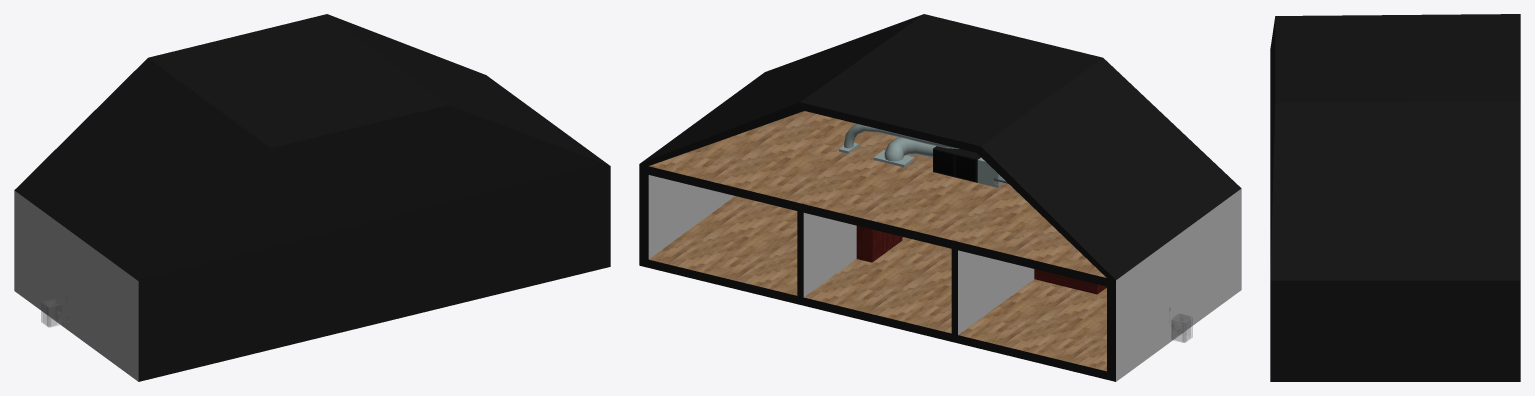
Rendered from House_final.glb.
The picture shows the model from 3 angles, left to right: view 1: azimuth 30°, elevation 25°; view 2: azimuth 150°, elevation 25°; view 3: azimuth 270°, elevation 25°; orthographic projection.
Parts seen in each view (by area): view 1: walls, acCondenser; view 2: walls, closet, flex_2, bed_2, flex_1, acCondenser, GasFurnace_Base, Box001; view 3: walls.
Boxes of the visible parts, x1,y1,x2,y2 form: walls: [14, 14, 610, 381]; acCondenser: [41, 298, 61, 327]; walls: [639, 14, 1241, 381]; closet: [856, 225, 902, 262]; flex_2: [884, 137, 935, 161]; bed_2: [1034, 269, 1106, 294]; flex_1: [844, 124, 959, 148]; acCondenser: [1171, 314, 1192, 342]; GasFurnace_Base: [933, 146, 980, 182]; Box001: [977, 157, 1005, 187]; walls: [1270, 14, 1520, 381].
Size of what is drawn, in the model's own units: 17.65 by 6.86 by 7.7.
14 materials, 3 textured.
